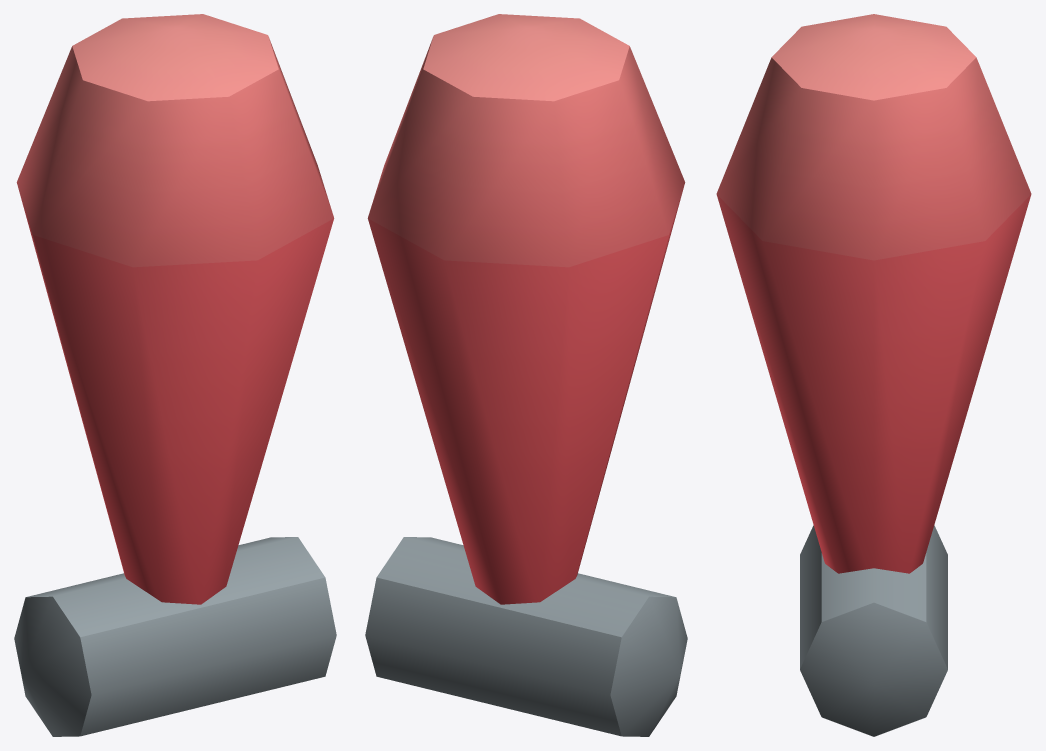
File: icecream_machine_handle_strawberry.obj
The picture shows the model from 3 angles, left to right: view 1: azimuth 30°, elevation 25°; view 2: azimuth 150°, elevation 25°; view 3: azimuth 270°, elevation 25°; orthographic projection. The views are drawn at different scales.
Visible parts, largest first — view 1: icecream_machine_handle_strawberry_Cube.396; view 2: icecream_machine_handle_strawberry_Cube.396; view 3: icecream_machine_handle_strawberry_Cube.396.
Boxes of the visible parts, <box> form: icecream_machine_handle_strawberry_Cube.396: <box>14,14,336,736</box>; icecream_machine_handle_strawberry_Cube.396: <box>365,14,687,736</box>; icecream_machine_handle_strawberry_Cube.396: <box>716,14,1031,736</box>.
Size of the model in its own units: 0.2507 by 0.5287 by 0.2322.
Materials: 1 (1 with a texture image).
